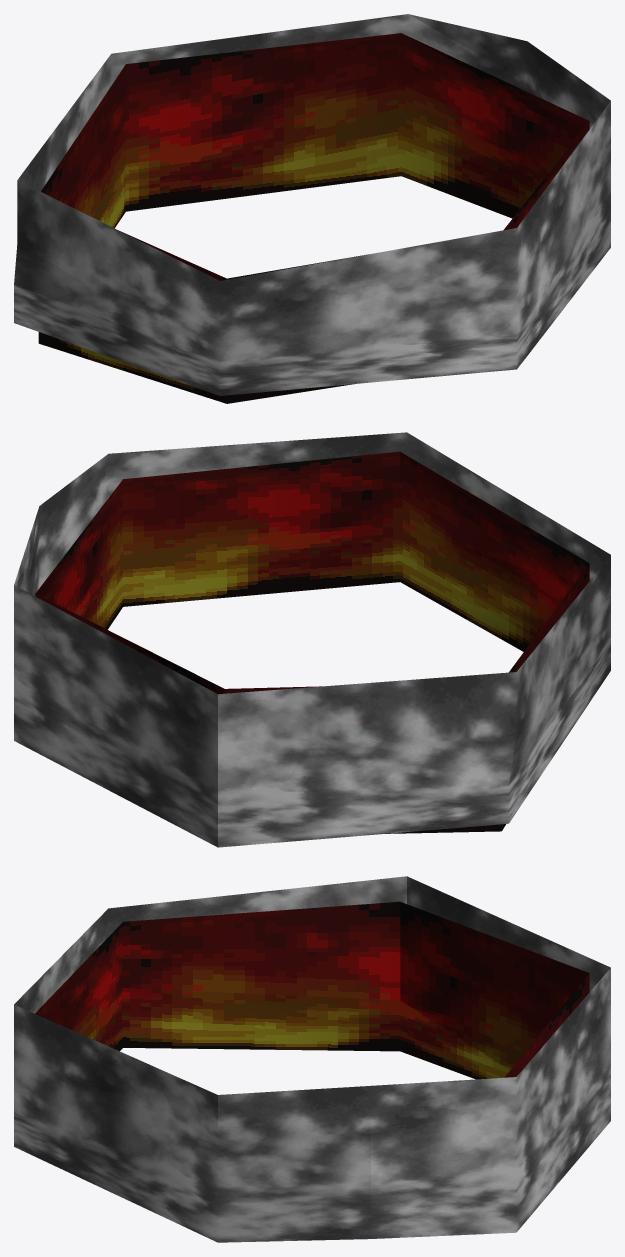
The model's file is STG0100_G_23.fbx.
The picture shows the model from 3 angles, top to bottom: view 1: azimuth 30°, elevation 25°; view 2: azimuth 150°, elevation 25°; view 3: azimuth 270°, elevation 25°; orthographic projection.
Parts seen in each view (by area): view 1: STG0100_G_23_s0100_nn040; view 2: STG0100_G_23_s0100_nn040; view 3: STG0100_G_23_s0100_nn040.
Boxes of the visible parts, x1,y1,x2,y2 form: STG0100_G_23_s0100_nn040: [14, 14, 610, 403]; STG0100_G_23_s0100_nn040: [14, 432, 610, 847]; STG0100_G_23_s0100_nn040: [14, 876, 610, 1242].
Bounding box in the file's own units: 15560 × 5869 × 16009.
